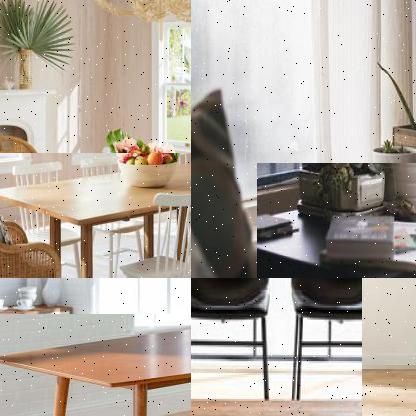table: (191, 278, 364, 415), (0, 153, 190, 277), (0, 314, 190, 415), (257, 163, 415, 277)
